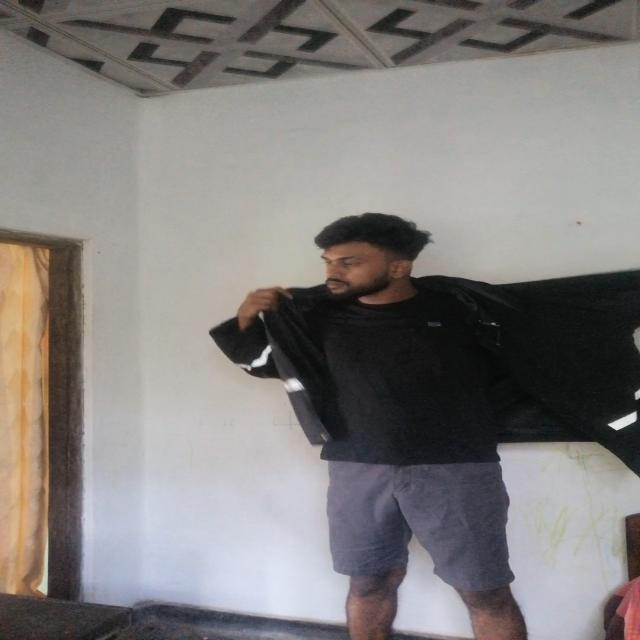Jacket_Wearer: (229, 274, 640, 462)
